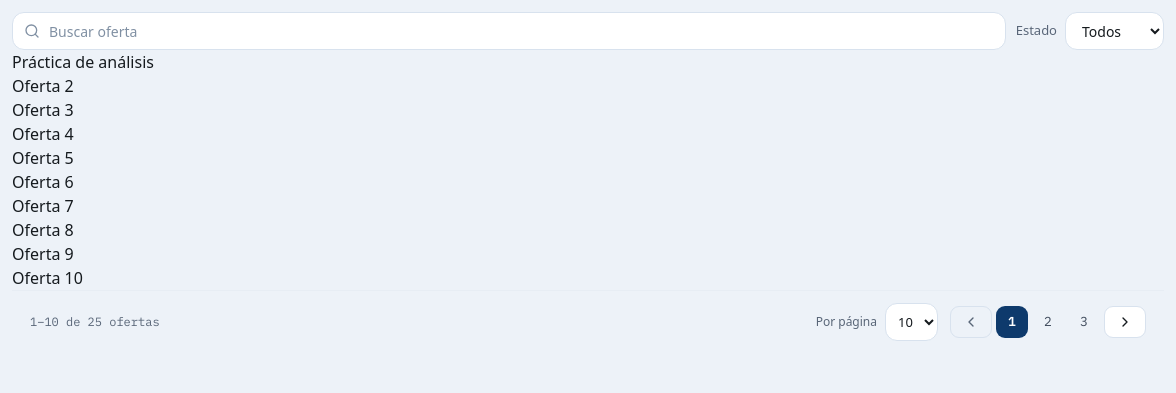
Test: ListToolbar + Pagination + useListing › moves between pages and keeps the page in the URL
Click the button named "Página siguiente".
click(1125, 322)  # box 1104,306 -> 1146,338
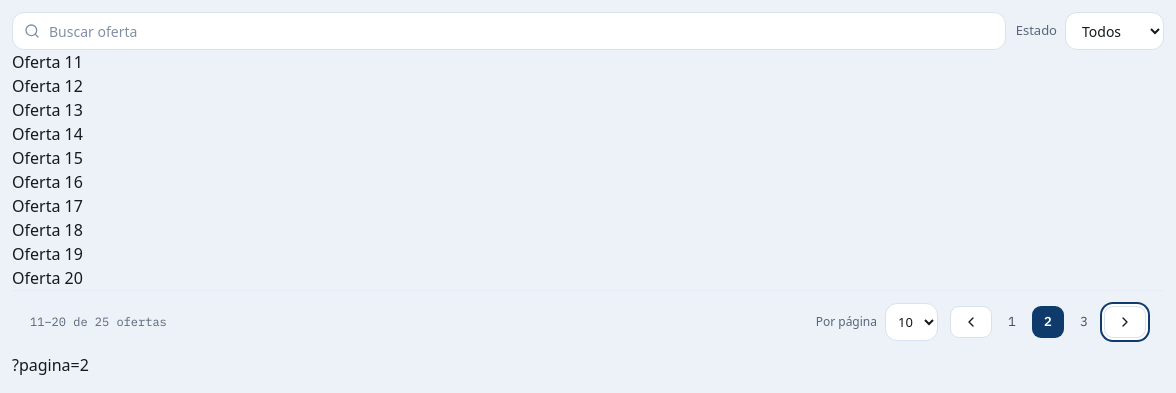
expect the text "11–20 de 25 ofertas" is shown: met, box 30,313 -> 167,331
expect the text with test id "url" shows "pagina=2": met, box 12,354 -> 89,376
Click the button named "Página 3".
click(1084, 322)  # box 1068,306 -> 1100,338
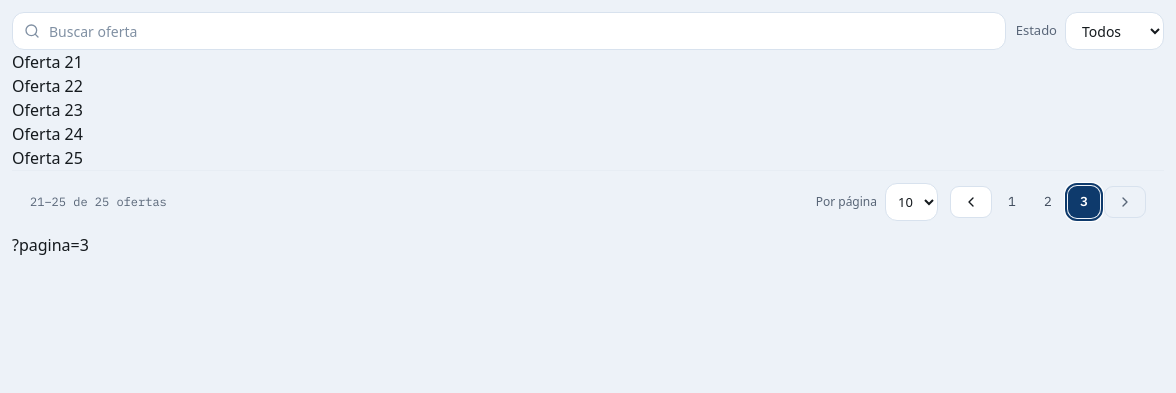
expect the button named "Página siguiente" is disabled: met, box 1104,186 -> 1146,218
expect the number of list items is 5: met, box 12,51 -> 83,73; 12,75 -> 83,97; 12,99 -> 83,121; 12,123 -> 83,145; 12,147 -> 83,169
Click the button named "Página anterior".
click(971, 202)  # box 950,186 -> 992,218
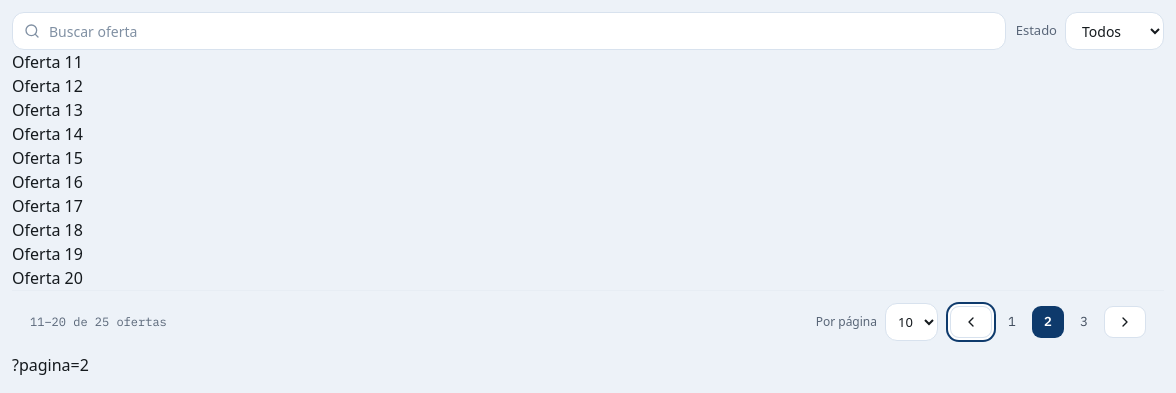
expect the text "11–20 de 25 ofertas" is shown: met, box 30,313 -> 167,331
